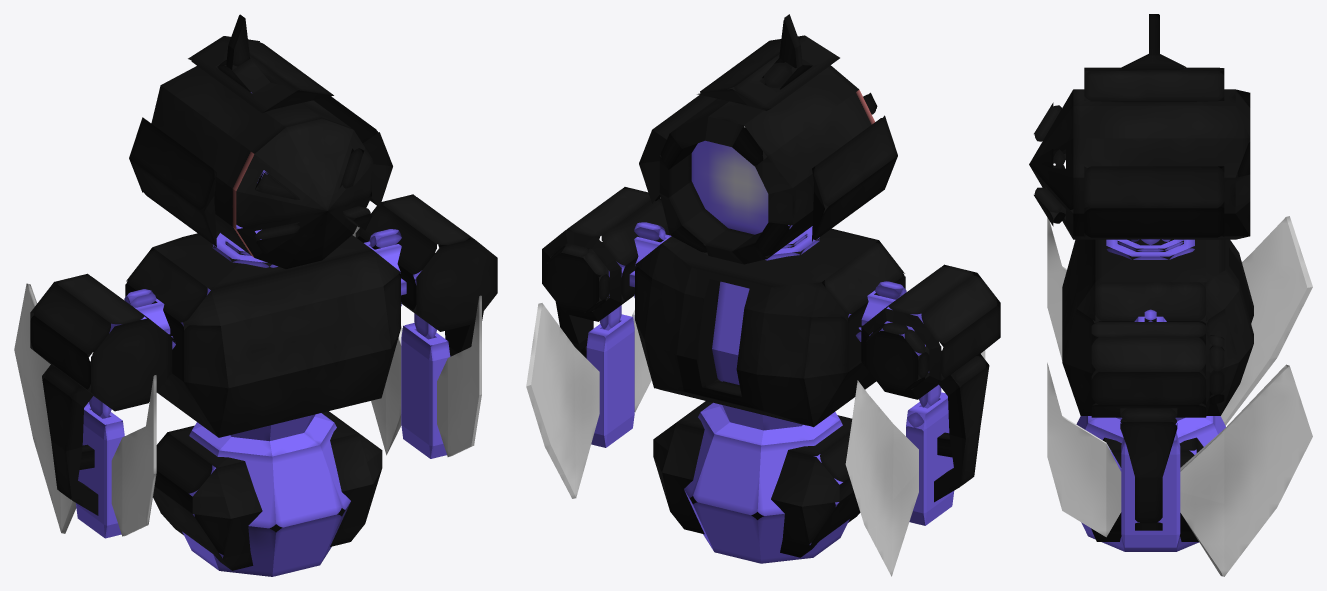
File: enemy02.fbx
3 renders of one model, left to right at view 1: azimuth 30°, elevation 25°; view 2: azimuth 150°, elevation 25°; view 3: azimuth 270°, elevation 25°, orthographic. The views are drawn at different scales.
Visible parts, largest first — view 1: cylinder, beveled_cuboid, cylinder_3, beveled_cuboid_1, sphere_1, beveled_cuboid_3, beveled_cuboid_2, cylinder_2, cylinder_5, cylinder_4, sphere, cylinder_1; view 2: cylinder, beveled_cuboid, cylinder_3, beveled_cuboid_2, sphere_1, beveled_cuboid_3, beveled_cuboid_1, cylinder_2, cylinder_5, cylinder_4, sphere, cylinder_1; view 3: cylinder, beveled_cuboid_2, beveled_cuboid, cylinder_2, beveled_cuboid_3, sphere_1, cylinder_1, beveled_cuboid_1.
Part boxes in pixels (x1=…): cylinder: x1=129, y1=14, x2=392, y2=268; beveled_cuboid: x1=125, y1=230, x2=400, y2=437; cylinder_3: x1=30, y1=273, x2=172, y2=515; beveled_cuboid_1: x1=153, y1=411, x2=382, y2=570; sphere_1: x1=182, y1=413, x2=350, y2=576; beveled_cuboid_3: x1=14, y1=283, x2=156, y2=538; beveled_cuboid_2: x1=352, y1=226, x2=481, y2=458; cylinder_2: x1=355, y1=194, x2=497, y2=356; cylinder_5: x1=109, y1=289, x2=183, y2=349; cylinder_4: x1=364, y1=229, x2=421, y2=306; sphere: x1=230, y1=414, x2=315, y2=441; cylinder_1: x1=212, y1=225, x2=277, y2=267; cylinder: x1=639, y1=14, x2=897, y2=264; beveled_cuboid: x1=635, y1=228, x2=905, y2=427; cylinder_3: x1=861, y1=264, x2=1000, y2=502; beveled_cuboid_2: x1=526, y1=295, x2=651, y2=498; sphere_1: x1=684, y1=402, x2=849, y2=563; beveled_cuboid_3: x1=845, y1=350, x2=985, y2=576; beveled_cuboid_1: x1=653, y1=401, x2=860, y2=557; cylinder_2: x1=542, y1=187, x2=669, y2=358; cylinder_5: x1=848, y1=281, x2=925, y2=355; cylinder_4: x1=608, y1=222, x2=671, y2=297; sphere: x1=719, y1=380, x2=802, y2=430; cylinder_1: x1=765, y1=225, x2=819, y2=260; cylinder: x1=1029, y1=14, x2=1250, y2=239; beveled_cuboid_2: x1=1047, y1=363, x2=1312, y2=576; beveled_cuboid: x1=1062, y1=239, x2=1253, y2=415; cylinder_2: x1=1091, y1=322, x2=1224, y2=530; beveled_cuboid_3: x1=1047, y1=216, x2=1312, y2=425; sphere_1: x1=1076, y1=416, x2=1225, y2=551; cylinder_1: x1=1106, y1=239, x2=1194, y2=259; beveled_cuboid_1: x1=1091, y1=437, x2=1203, y2=541.
Size of the model in its own units: 191 by 246 by 120.
1 material, 1 textured.
